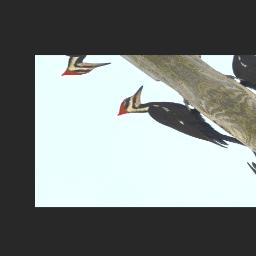Woodpecker: (102, 78, 242, 170)
